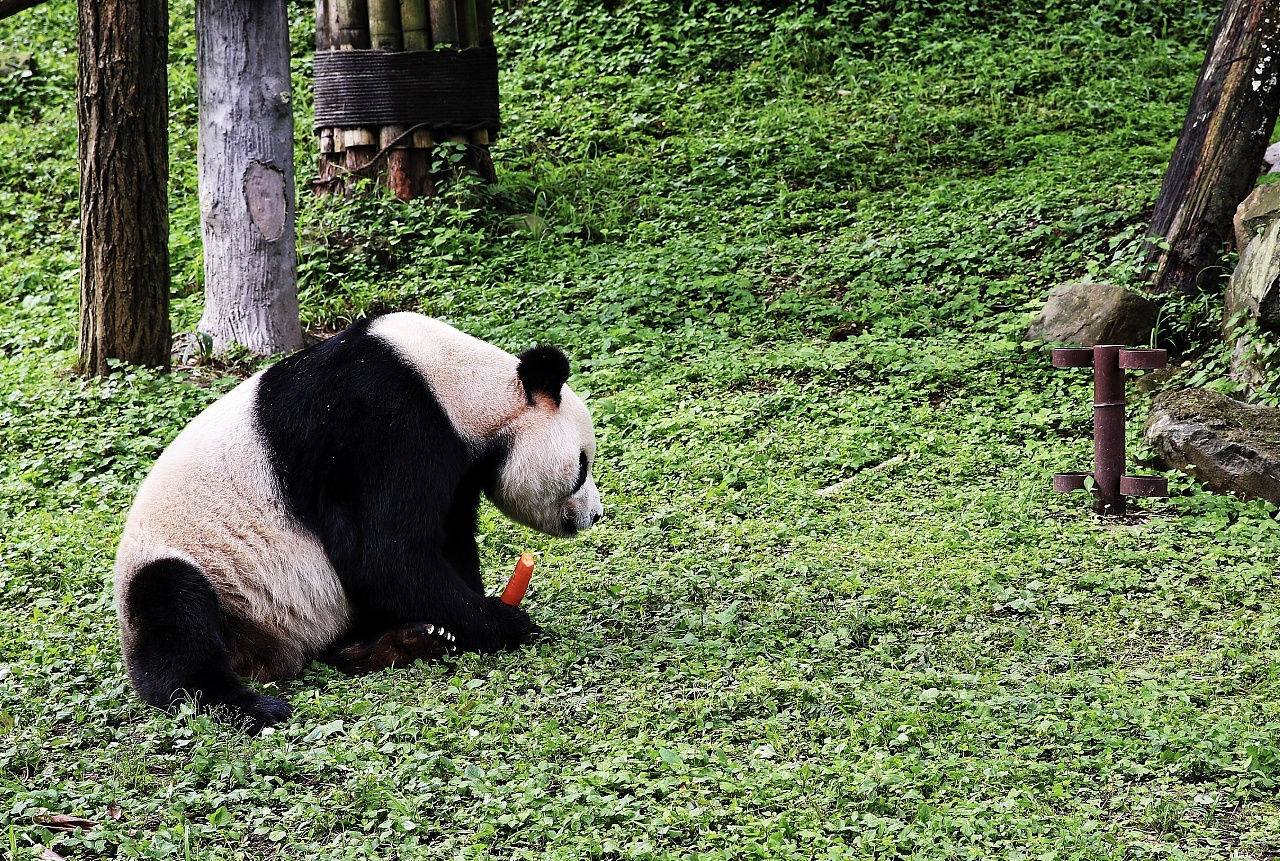panda: (105, 294, 622, 741)
